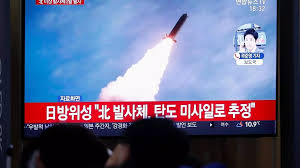ten_lua: (165, 9, 189, 45)
